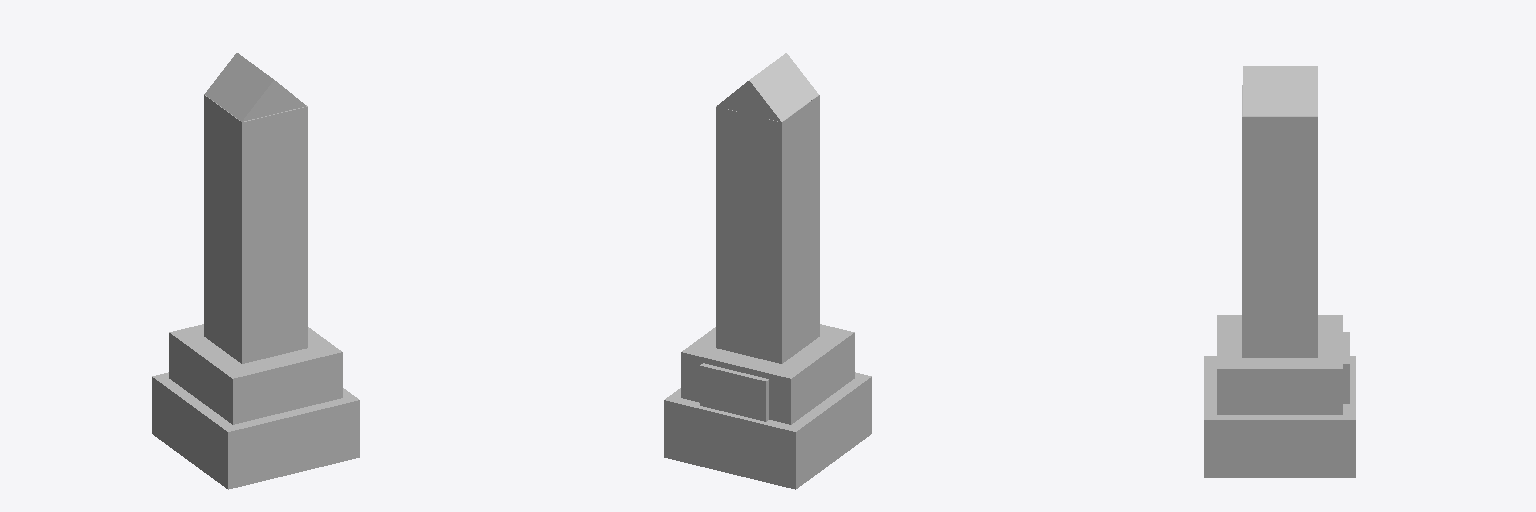
Rendered from obelisk_1.obj.
3 views of the same model, side by side, from view 1: azimuth 30°, elevation 25°; view 2: azimuth 150°, elevation 25°; view 3: azimuth 270°, elevation 25° (orthographic).
Visible parts, largest first — view 1: cube; view 2: cube; view 3: cube.
Part boxes in pixels (x1,y1,x2,y2): cube: (152, 53, 359, 489); cube: (664, 53, 871, 489); cube: (1204, 66, 1355, 477).
Bounding box in the file's own units: 0.75 × 2.06 × 0.75.